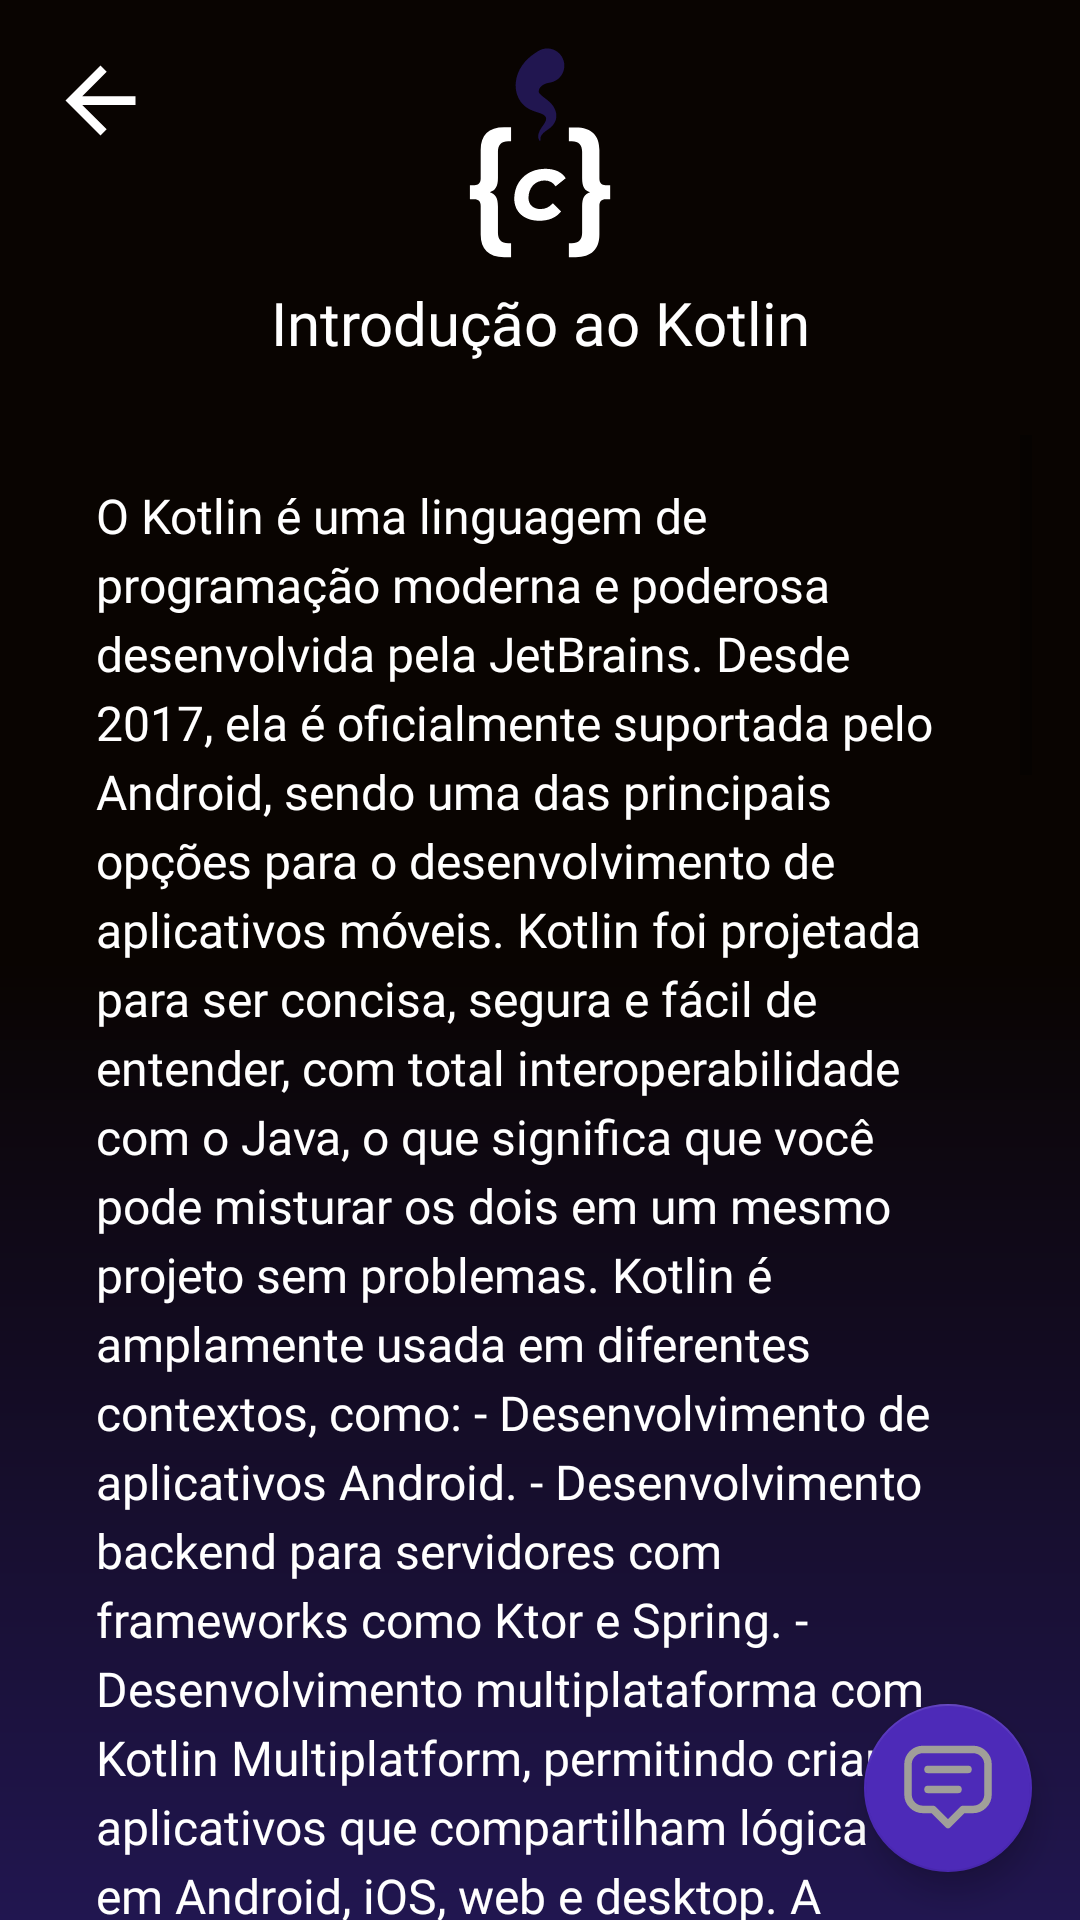

Locate icon controls on the screen. Image size 1080px×1920px, boxes as (x1, y1, x2, y2).
Botão para abrir o chat de IA: (864, 1704, 1032, 1872)
Voltar: (65, 65, 136, 136)
